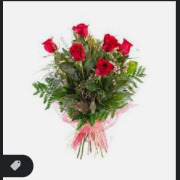RedRose: (65, 16, 91, 39), (38, 32, 58, 56), (68, 40, 86, 63), (96, 56, 114, 79), (101, 32, 118, 55), (119, 36, 133, 58)
